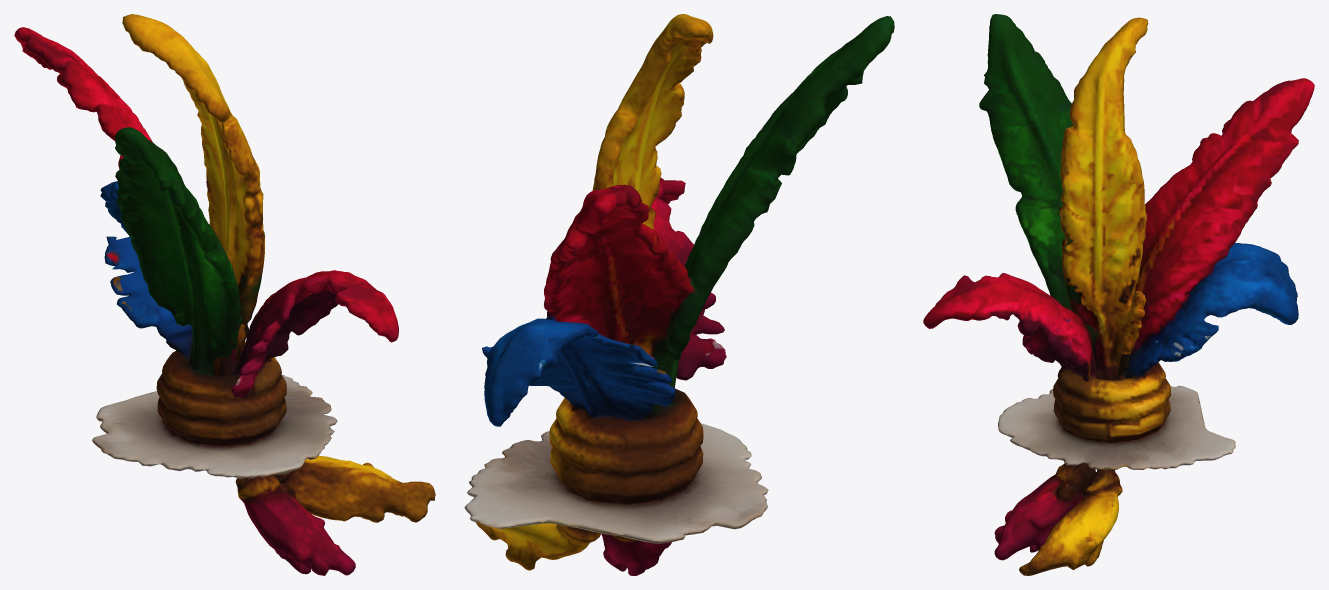
The model's file is Jianzi.glb.
The picture shows the model from 3 angles, left to right: view 1: azimuth 30°, elevation 25°; view 2: azimuth 150°, elevation 25°; view 3: azimuth 270°, elevation 25°; orthographic projection. The views are drawn at different scales.
Visible parts, largest first — view 1: tripo_node_fa7c8605-b251-4941-b9f2-3668e6af9380; view 2: tripo_node_fa7c8605-b251-4941-b9f2-3668e6af9380; view 3: tripo_node_fa7c8605-b251-4941-b9f2-3668e6af9380.
Part boxes in pixels (<box>): tripo_node_fa7c8605-b251-4941-b9f2-3668e6af9380: <box>14,14,435,575</box>; tripo_node_fa7c8605-b251-4941-b9f2-3668e6af9380: <box>464,14,894,575</box>; tripo_node_fa7c8605-b251-4941-b9f2-3668e6af9380: <box>923,14,1314,575</box>.
Bounding box in the file's own units: 0.6537 × 1 × 0.7373.
Materials: 1 (1 with a texture image).
